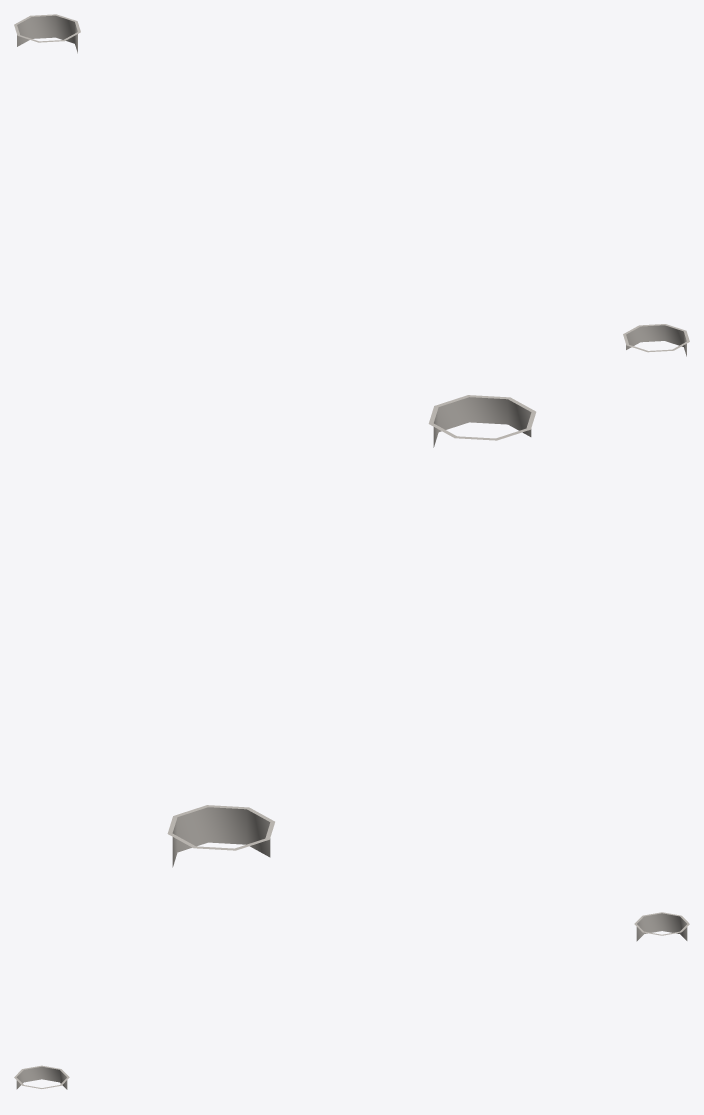
The model's file is kd_stage_135ded_4_119_exterior.glb.
3 renders of one model, top to bottom at view 1: azimuth 30°, elevation 25°; view 2: azimuth 150°, elevation 25°; view 3: azimuth 270°, elevation 25°, orthographic. The views are drawn at different scales.
Parts seen in each view (by area): view 1: kd_stage_135ded_4_119_exterior; view 2: kd_stage_135ded_4_119_exterior; view 3: kd_stage_135ded_4_119_exterior.
Part boxes in pixels (x1,y1,x2,y2): kd_stage_135ded_4_119_exterior: (14,14,689,356); kd_stage_135ded_4_119_exterior: (167,395,536,867); kd_stage_135ded_4_119_exterior: (14,912,689,1089).
Bounding box in the file's own units: 0.9428 × 0.31 × 2.42.
1 material, 1 textured.
